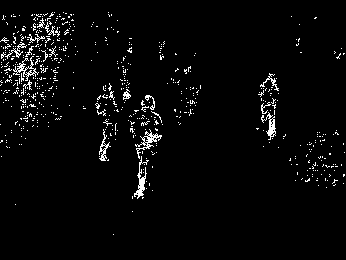person: (133, 94, 165, 202), (90, 79, 119, 163), (255, 72, 285, 146)
